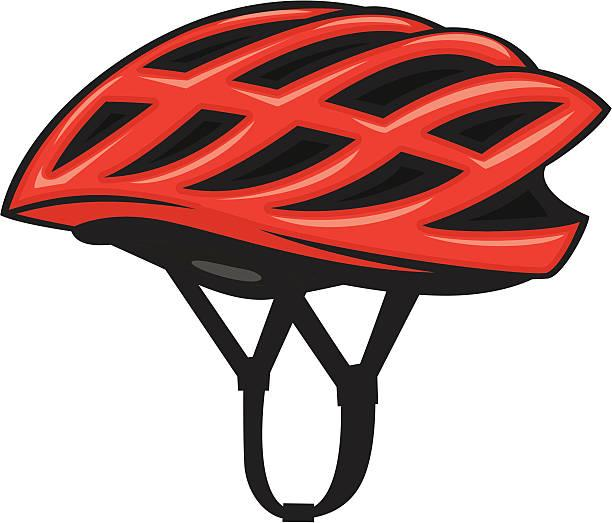helmet: (12, 7, 612, 430)
